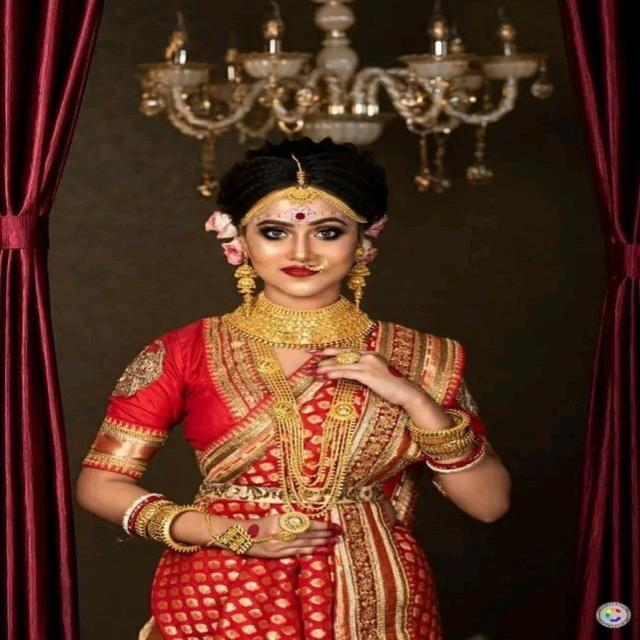Earring: (346, 228, 380, 320), (229, 246, 265, 329)
